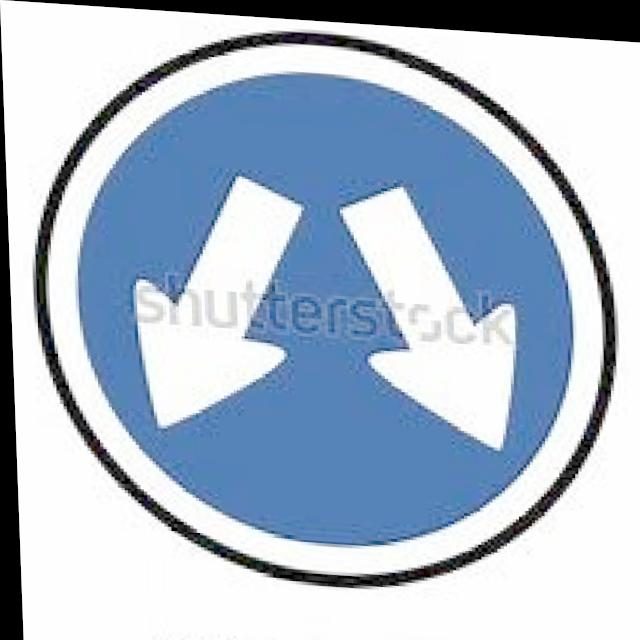PASS_EITHER_SIDE: (18, 18, 629, 599)
